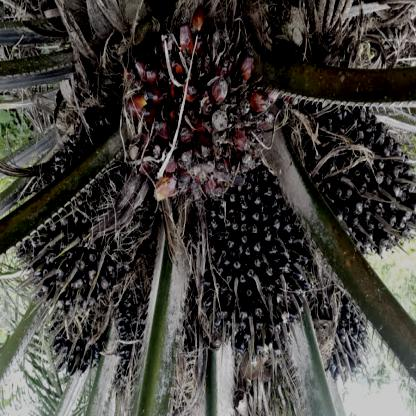1: (120, 26, 274, 198)
palm-oil: (15, 133, 129, 293), (306, 110, 416, 255), (206, 198, 309, 352), (314, 294, 370, 378), (51, 323, 102, 372), (113, 288, 145, 351)
